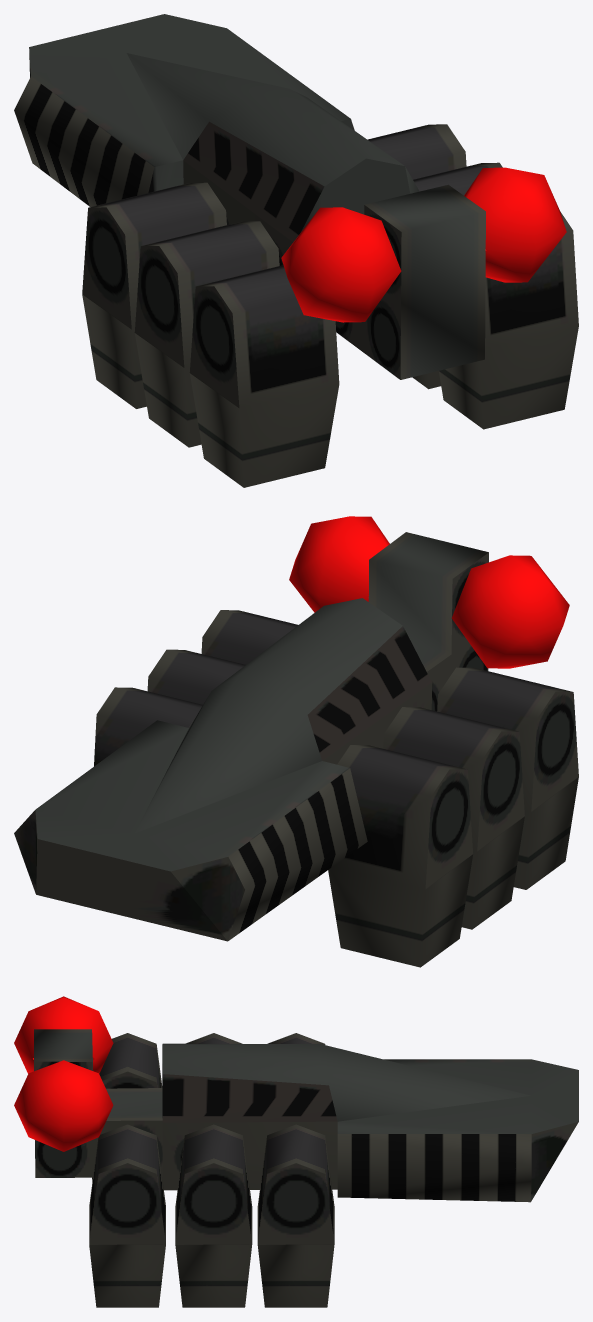
File: bugz.obj
3 views of the same model, one above another, from view 1: azimuth 30°, elevation 25°; view 2: azimuth 150°, elevation 25°; view 3: azimuth 270°, elevation 25° (orthographic). The views are drawn at different scales.
Size of the model in its own units: 0.9468 by 0.7356 by 1.74.
